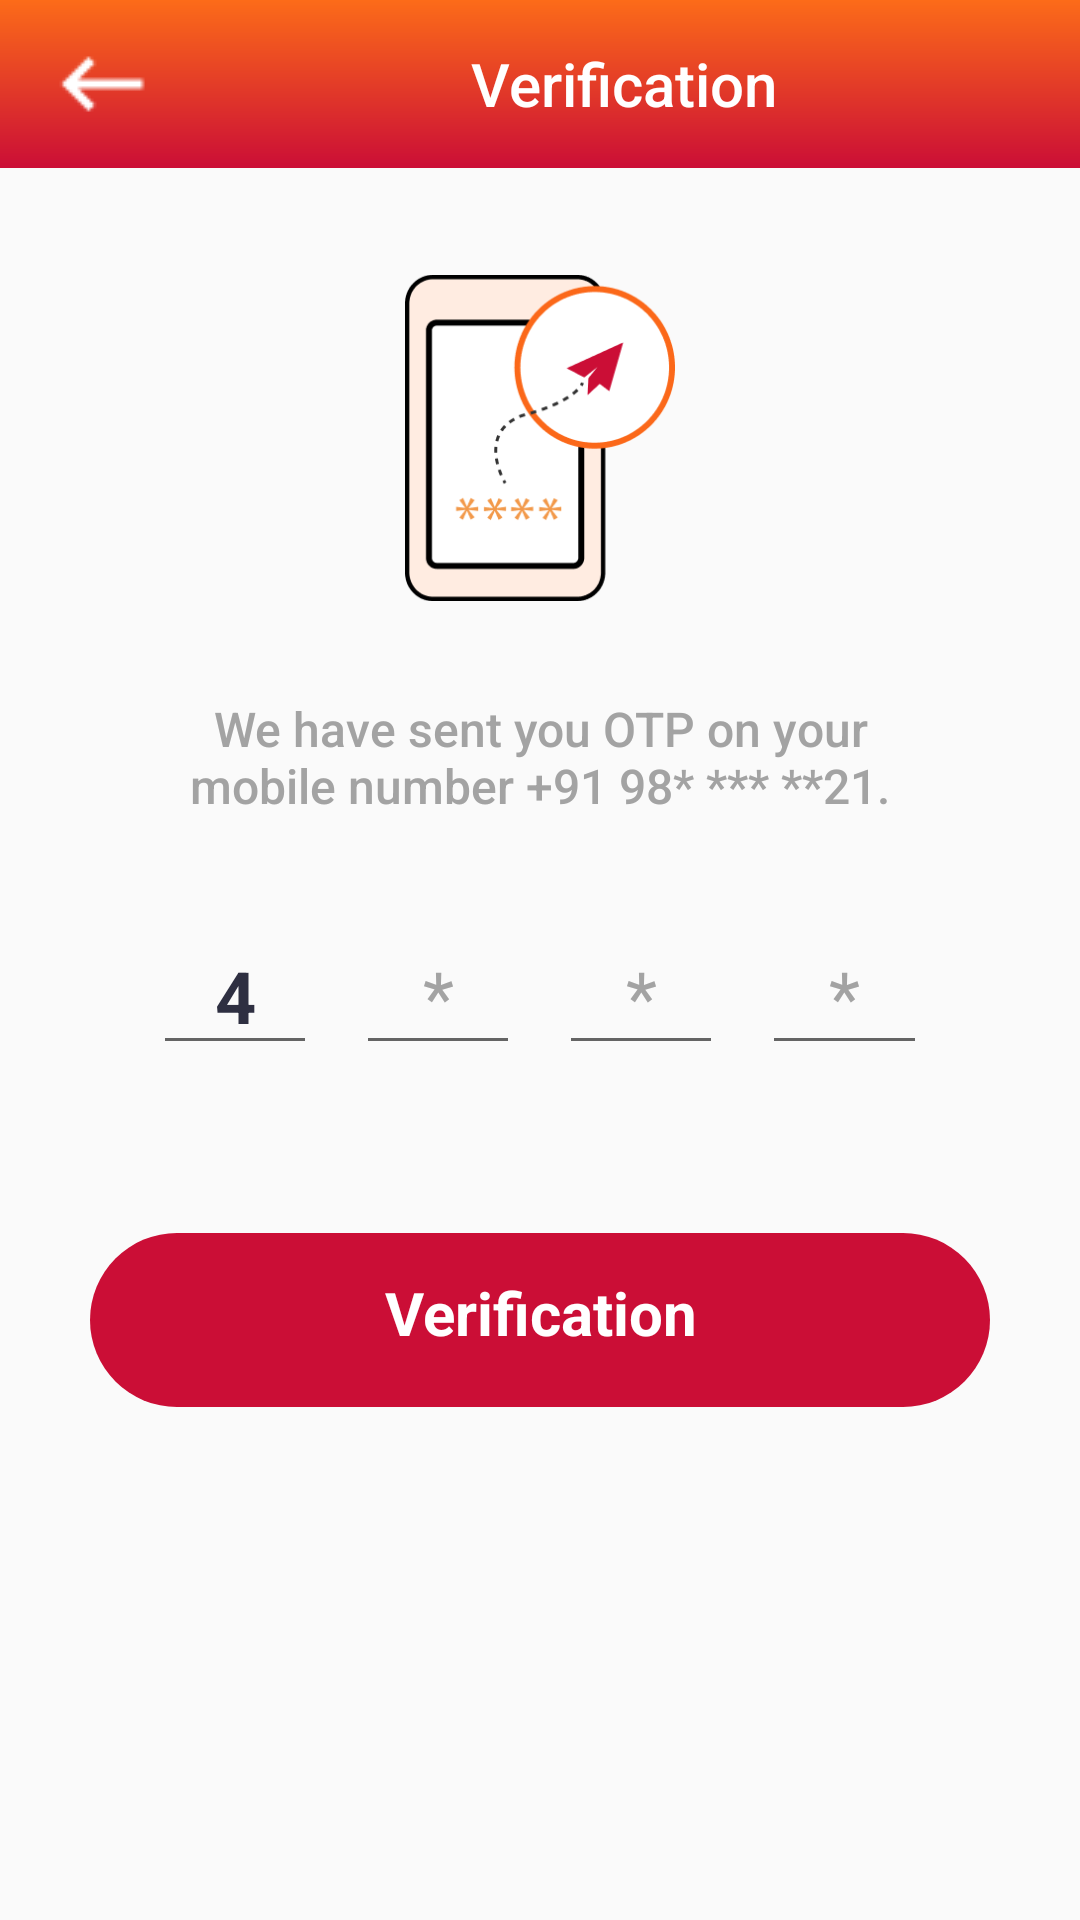

Named icons in this screenshot (1080×1920) and their centers, [x,y]:
keyboard backspace: [103,84]
